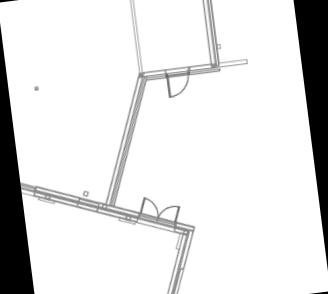door: (163, 67, 195, 99)
double door: (131, 189, 186, 236)
window: (28, 178, 86, 215)
